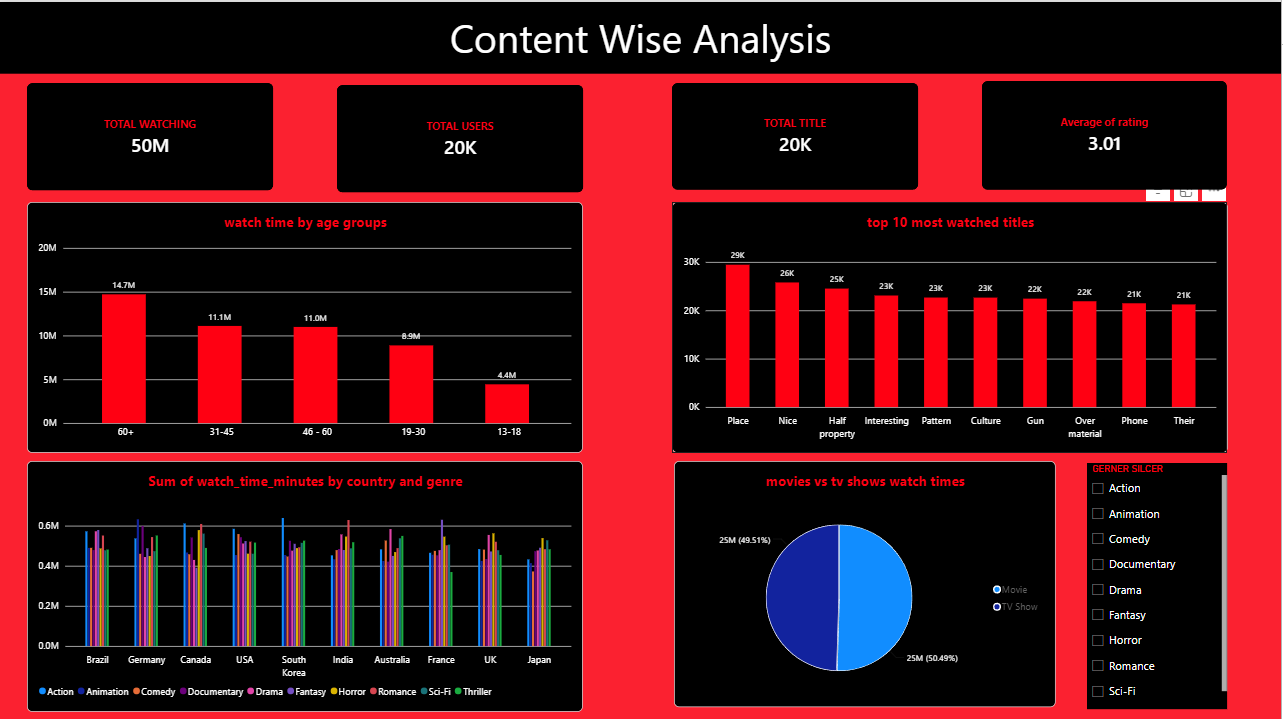

This screenshot's page, from the dashboard's own definition file:
{"tool":"powerbi","page":{"name":"Page 4","canvas":[1920,1080],"ordinal":4},"visuals":[{"type":"textbox","box":[0,13.5,1920.3,94.3],"z":0},{"type":"textbox","box":[0,0,1920,26.3],"z":1000},{"type":"clusteredColumnChart","fields":{"Category":["netflix_dataset_20000 csv.country"],"Y":["Sum(netflix_customer_ratings_20000.watch_time_minutes)"],"Series":["netflix_dataset_20000 csv.genre"]},"box":[40.9,688.6,833.1,376.4],"z":2000},{"type":"columnChart","title":"top 10 most watched titles","fields":{"Category":["netflix_dataset_20000 csv.title"],"Y":["Sum(netflix_customer_ratings_20000.watch_time_minutes)"]},"box":[1006.7,299.1,833.1,376.4],"z":3000},{"type":"columnChart","title":"watch time by age groups ","fields":{"Category":["netflix_customer_ratings_20000.age group"],"Y":["Sum(netflix_customer_ratings_20000.watch_time_minutes)"]},"box":[40.9,299.1,833.1,376.4],"z":4000},{"type":"pieChart","title":"movies vs tv shows watch times","fields":{"Y":["Sum(netflix_customer_ratings_20000.watch_time_minutes)"],"Category":["netflix_dataset_20000 csv.type"]},"box":[1009.6,688.6,571.9,369.1],"z":5000},{"type":"cardVisual","fields":{"Data":["netflix_customer_ratings_20000.TOTAL STREAMED TIME"]},"box":[40.9,121.1,369.1,161.9],"z":6000},{"type":"cardVisual","fields":{"Data":["netflix_dataset_20000 csv.TOTAL TITLE"]},"box":[1006.7,121.1,369.1,160.5],"z":7000},{"type":"cardVisual","fields":{"Data":["Count(netflix_customer_ratings_20000.customer_id)"]},"box":[504.8,124,369.1,161.9],"z":8000},{"type":"cardVisual","fields":{"Data":["Avg(netflix_customer_ratings_20000.rating)"]},"box":[1472.1,118.2,367.7,163.4],"z":9000},{"type":"slicer","fields":{"Values":["netflix_dataset_20000 csv.genre"]},"box":[1629.7,691.6,210.1,369.1],"z":10000}]}

Visuals, with their boxes in screenshot pixels (x1, y1, x2, y2), scaled from the page's 1920x1080 canvas onto the 1283x719 screenshot:
textbox: select_region(0, 9, 1282, 72)
textbox: select_region(0, 0, 1282, 18)
clusteredColumnChart - netflix_dataset_20000 csv.country x Sum(netflix_customer_ratings_20000.watch_time_minutes): select_region(27, 458, 584, 709)
"top 10 most watched titles" columnChart: select_region(673, 199, 1229, 450)
"watch time by age groups " columnChart: select_region(27, 199, 584, 450)
"movies vs tv shows watch times" pieChart: select_region(675, 458, 1057, 704)
cardVisual - netflix_customer_ratings_20000.TOTAL STREAMED TIME: select_region(27, 81, 274, 188)
cardVisual - netflix_dataset_20000 csv.TOTAL TITLE: select_region(673, 81, 919, 187)
cardVisual - Count(netflix_customer_ratings_20000.customer_id): select_region(337, 83, 584, 190)
cardVisual - Avg(netflix_customer_ratings_20000.rating): select_region(984, 79, 1229, 187)
slicer - netflix_dataset_20000 csv.genre: select_region(1089, 460, 1229, 706)
